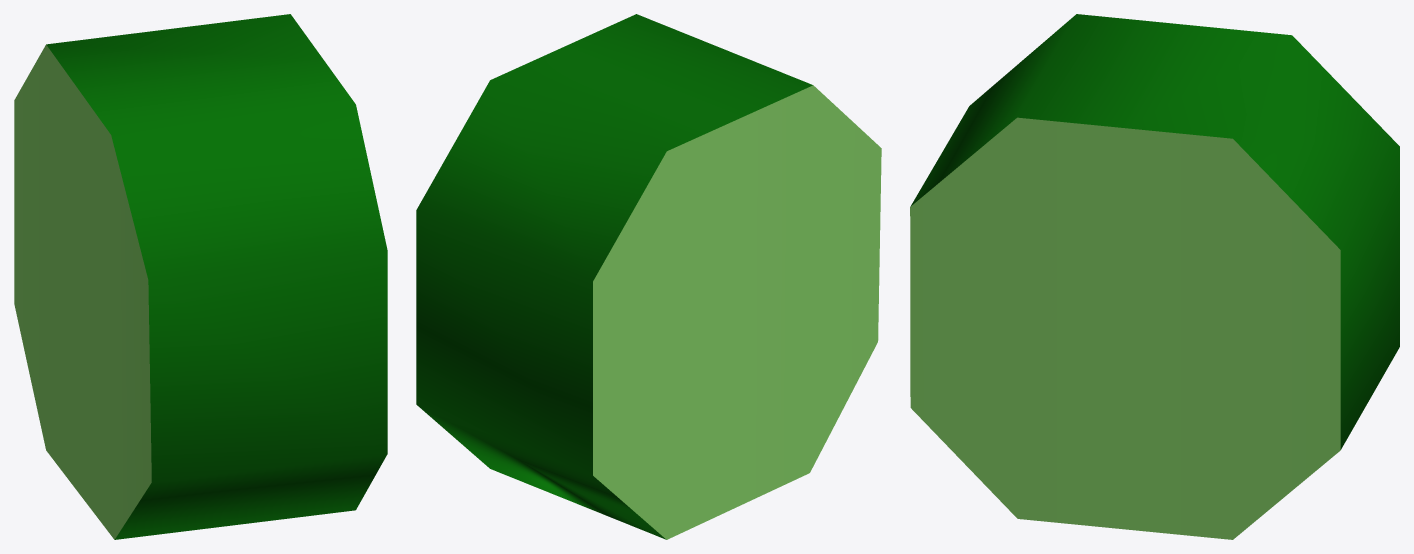
The model's file is mesh_CucumberSlice_Stage12.fbx.
3 renders of one model, left to right at view 1: azimuth 30°, elevation 25°; view 2: azimuth 150°, elevation 25°; view 3: azimuth 270°, elevation 25°, orthographic. The views are drawn at different scales.
Visible parts, largest first — view 1: mesh_CucumberSlice_Stage12; view 2: mesh_CucumberSlice_Stage12; view 3: mesh_CucumberSlice_Stage12.
Boxes of the visible parts, box(x1,y1,x2,y2) form: mesh_CucumberSlice_Stage12: box(14, 14, 387, 539); mesh_CucumberSlice_Stage12: box(416, 14, 881, 539); mesh_CucumberSlice_Stage12: box(910, 14, 1399, 539).
Bounding box in the file's own units: 0.0282 × 0.0367 × 0.0406.
